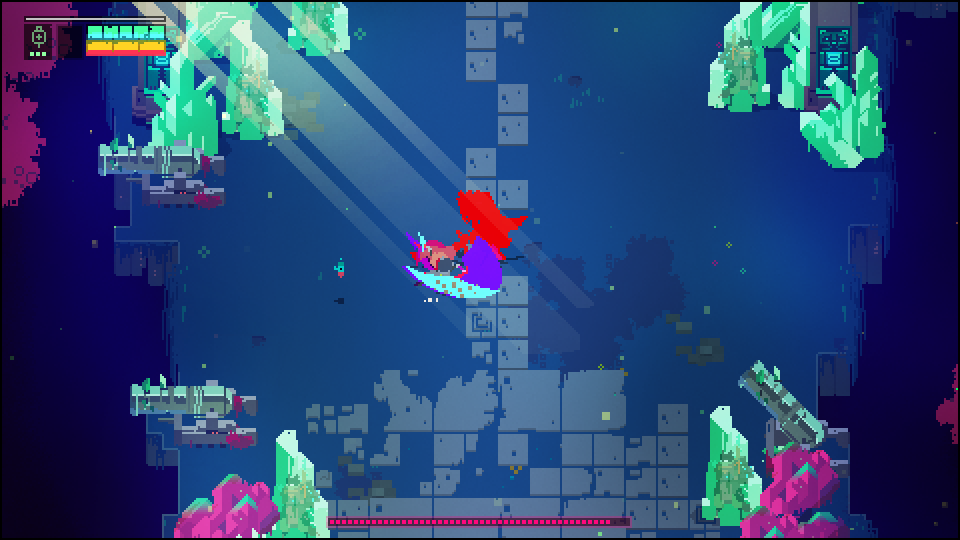hanged_man: (452, 185, 528, 266)
player: (403, 228, 501, 303)
